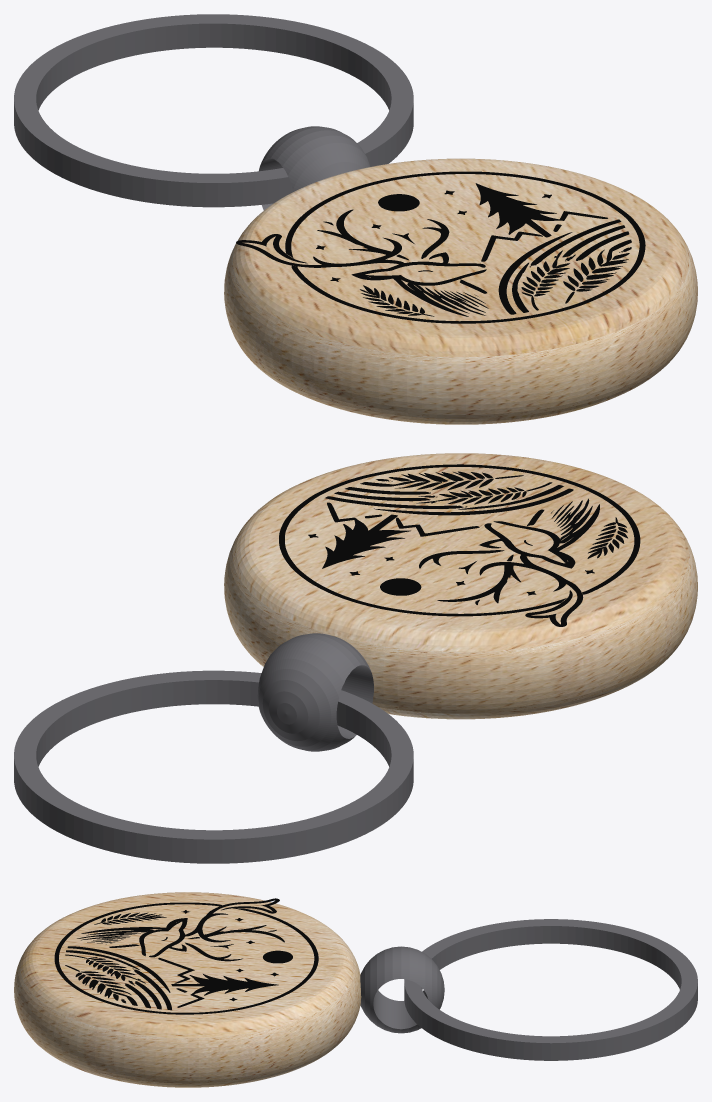
File: pinilla02.glb
The picture shows the model from 3 angles, top to bottom: view 1: azimuth 30°, elevation 25°; view 2: azimuth 150°, elevation 25°; view 3: azimuth 270°, elevation 25°; orthographic projection. The views are drawn at different scales.
Parts seen in each view (by area): view 1: Cylinder, anilla, Sphere, Curve.022, Curve.021, Curve.091, Curve.077; view 2: Cylinder, anilla, Sphere, Curve.022, Curve.021, Curve.091, Curve.077; view 3: Cylinder, anilla, Sphere, Curve.022, Curve.021, Curve.091, Curve.077, Curve.092.
Part boxes in pixels (x1,y1,x2,y2): Cylinder: [224, 158, 697, 424]; anilla: [14, 14, 413, 207]; Sphere: [259, 126, 370, 210]; Curve.022: [236, 209, 486, 316]; Curve.021: [285, 171, 645, 323]; Curve.091: [475, 183, 607, 237]; Curve.077: [498, 232, 572, 314]; Cylinder: [224, 453, 697, 719]; anilla: [14, 670, 413, 863]; Sphere: [257, 633, 373, 751]; Curve.022: [437, 498, 599, 626]; Curve.021: [279, 464, 640, 616]; Curve.091: [322, 502, 410, 568]; Curve.077: [374, 488, 573, 515]; Cylinder: [14, 892, 361, 1087]; anilla: [404, 919, 697, 1060]; Sphere: [360, 946, 444, 1033]; Curve.022: [77, 898, 284, 957]; Curve.021: [54, 902, 318, 1014]; Curve.091: [171, 974, 278, 1007]; Curve.077: [67, 946, 170, 992]; Curve.092: [263, 950, 292, 963].
Size of the model in its own units: 0.04 by 0.01 by 0.0786.
Materials: 89 (1 with a texture image).
